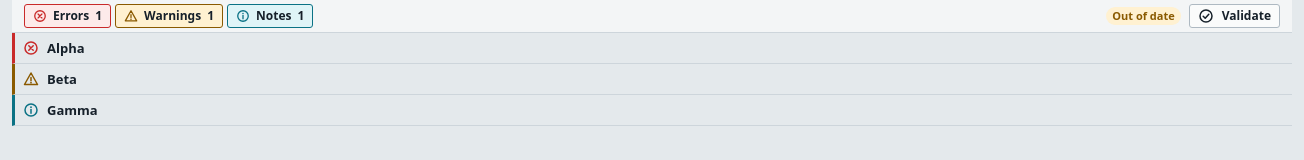
IssuesDock › lists issues with counts, filters by severity, and flags stale results
Expected: the text "Out of date" is shown, x1=1106 y1=7 x2=1181 y2=25
Expected: the number of list items is 3, x1=12 y1=33 x2=1292 y2=64; x1=12 y1=64 x2=1292 y2=95; x1=12 y1=95 x2=1292 y2=126
What coordinates should you click on to do the following:
click the button with test id "issues-chip-error"
I would click on:
 (68, 16)
Its box is x1=24 y1=4 x2=111 y2=28.
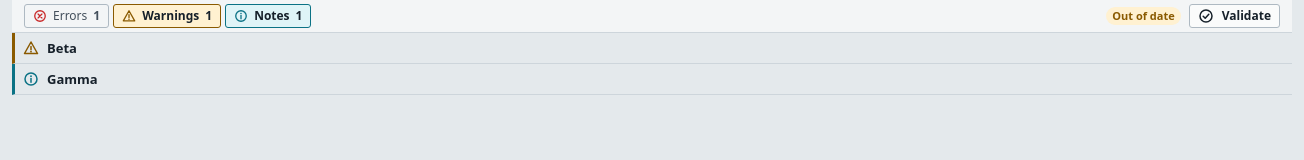
Now the number of list items is 2, box x1=12 y1=33 x2=1292 y2=64; x1=12 y1=64 x2=1292 y2=95
Now the button "Alpha" is gone
